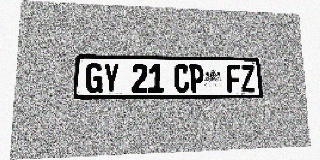1: (148, 64, 163, 93)
2: (132, 64, 147, 93)
C: (174, 64, 189, 93)
F: (226, 65, 241, 92)
G: (86, 63, 103, 93)
P: (189, 64, 204, 92)
Y: (103, 63, 119, 93)
Z: (240, 65, 255, 92)
